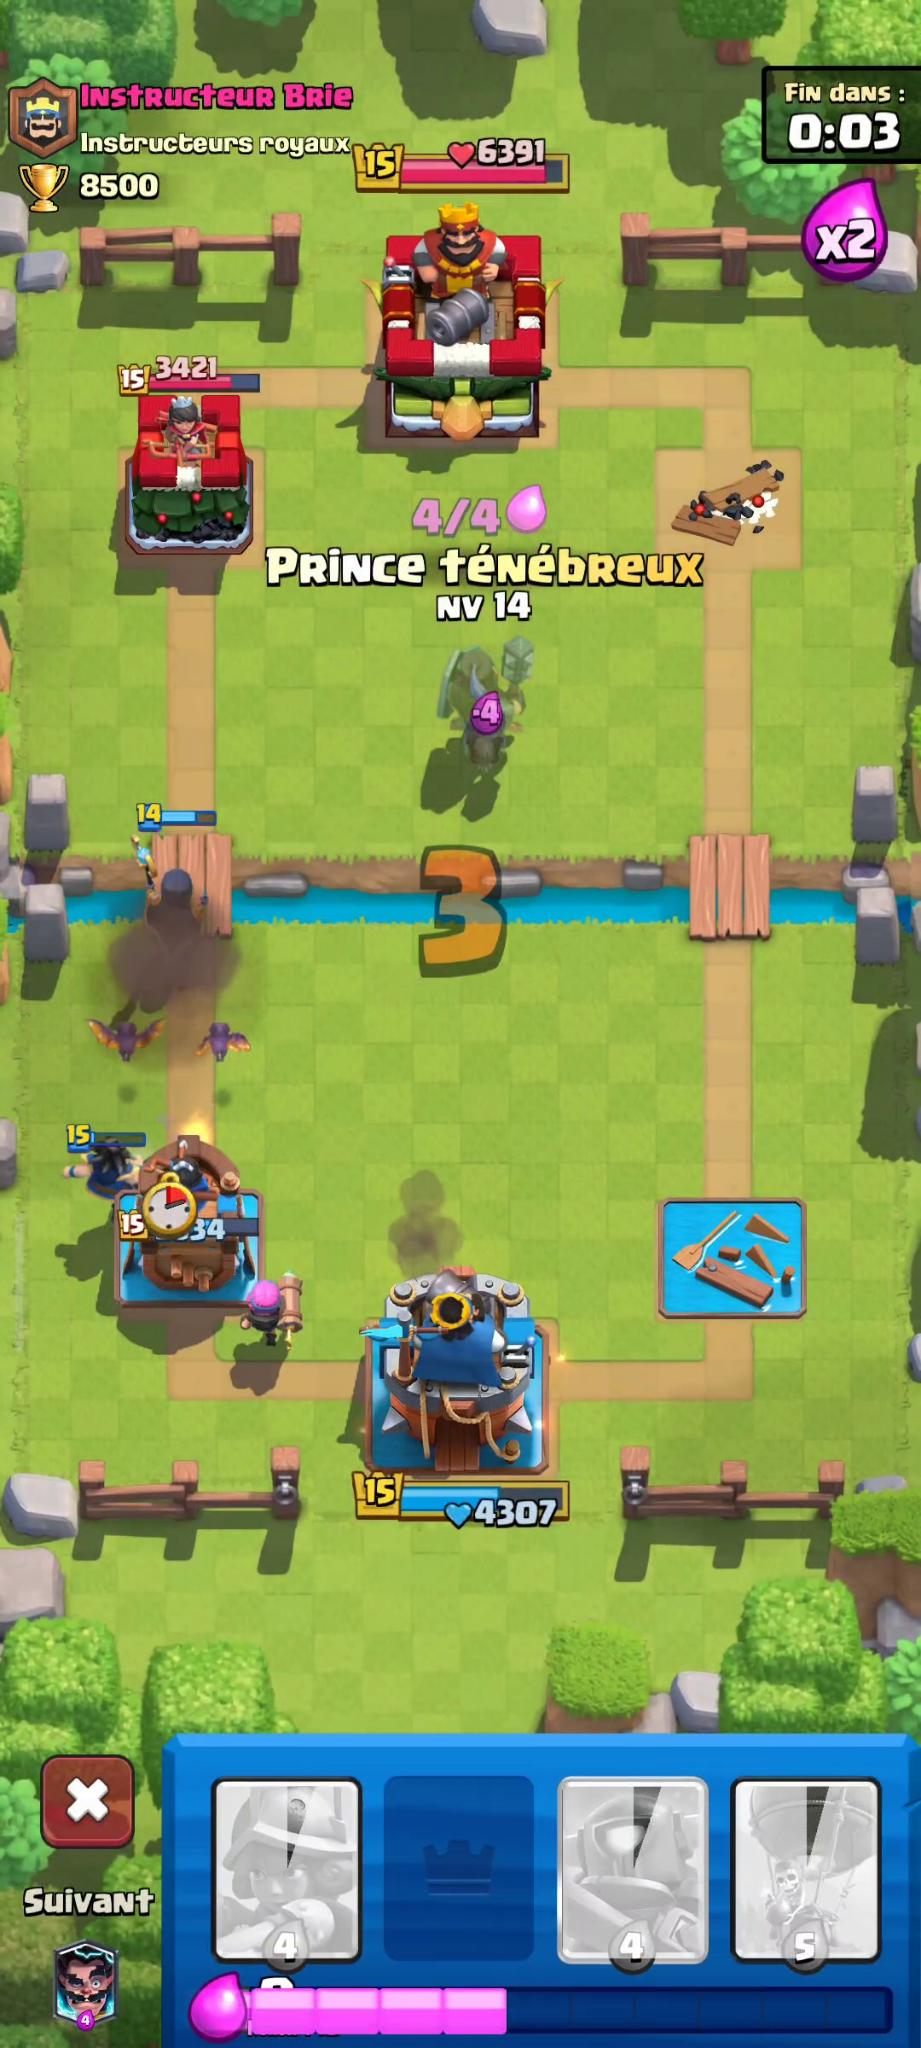bat: (85, 1012, 167, 1072), (191, 1019, 256, 1070)
